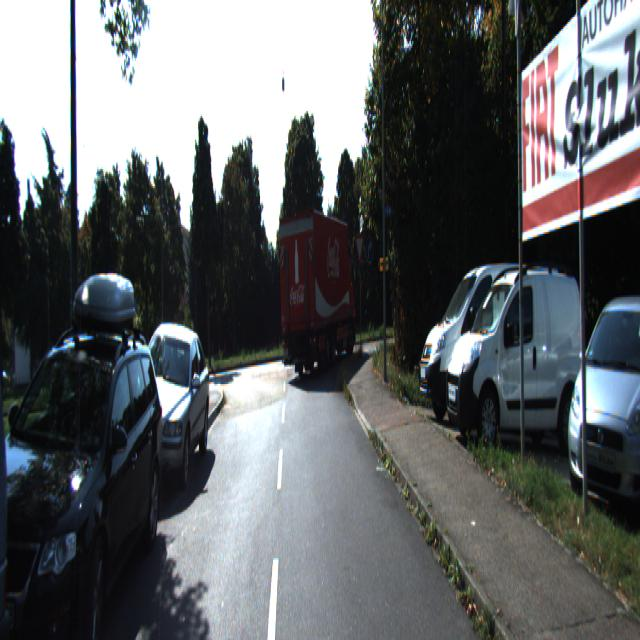Car: (0, 323, 167, 638), (442, 261, 585, 454), (416, 258, 570, 431), (566, 300, 640, 540), (125, 316, 214, 507), (274, 208, 356, 384)
